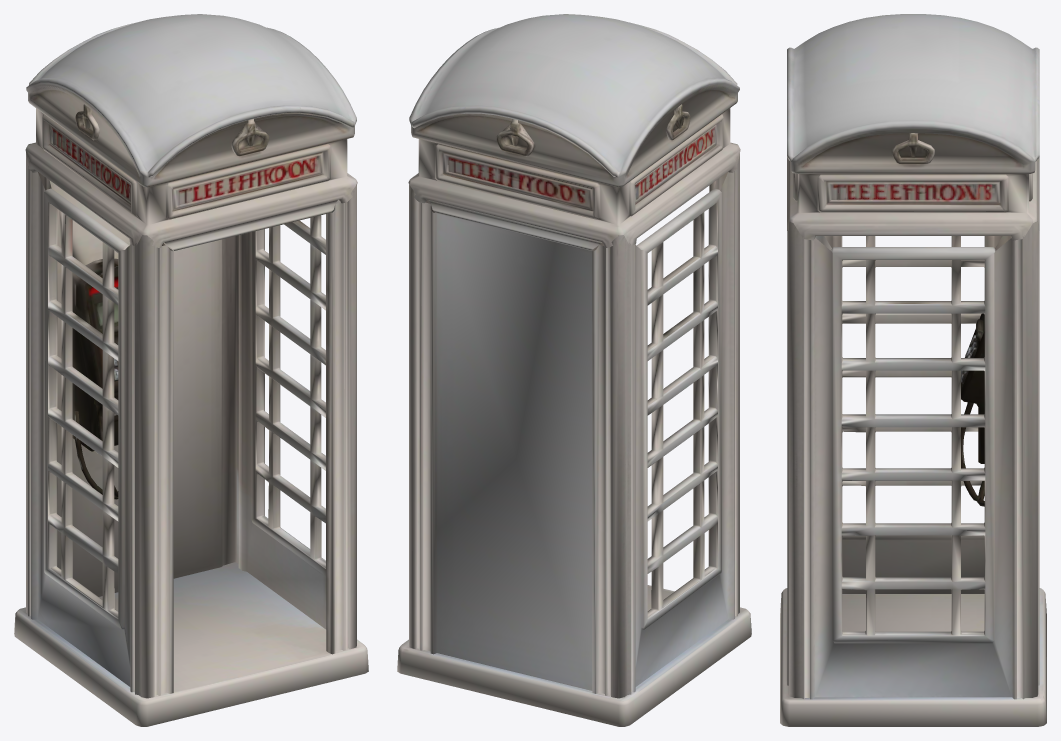
File: a_phone_booth_c1e7aa8c_v3.glb
3 views of the same model, side by side, from view 1: azimuth 30°, elevation 25°; view 2: azimuth 150°, elevation 25°; view 3: azimuth 270°, elevation 25° (orthographic). The views are drawn at different scales.
Parts seen in each view (by area): view 1: material; view 2: material; view 3: material.
Boxes of the visible parts, box(x1,y1,x2,y2) form: material: box(14, 14, 368, 726); material: box(397, 14, 751, 726); material: box(780, 14, 1046, 726).
Bounding box in the file's own units: 0.7518 × 1.9 × 0.7283.
1 material, 1 textured.
